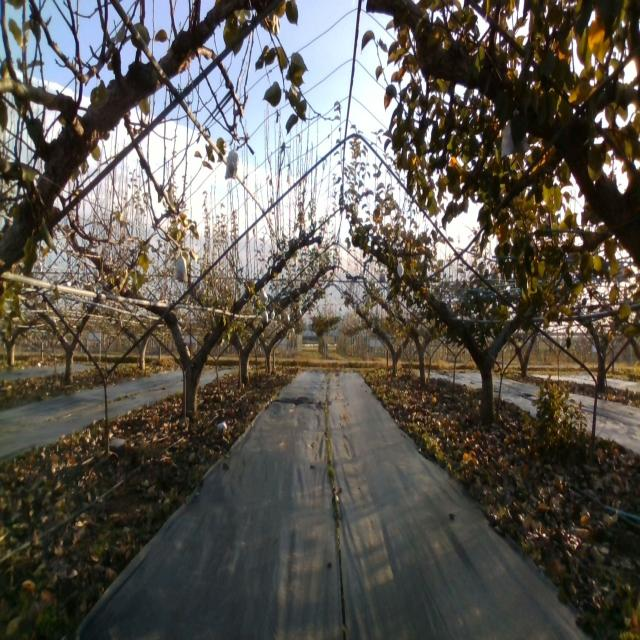pearbags: (224, 142, 239, 180), (172, 248, 188, 283)
